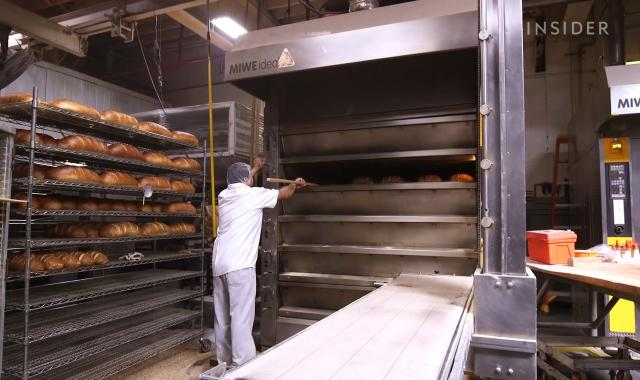hairnet: (223, 162, 251, 187)
